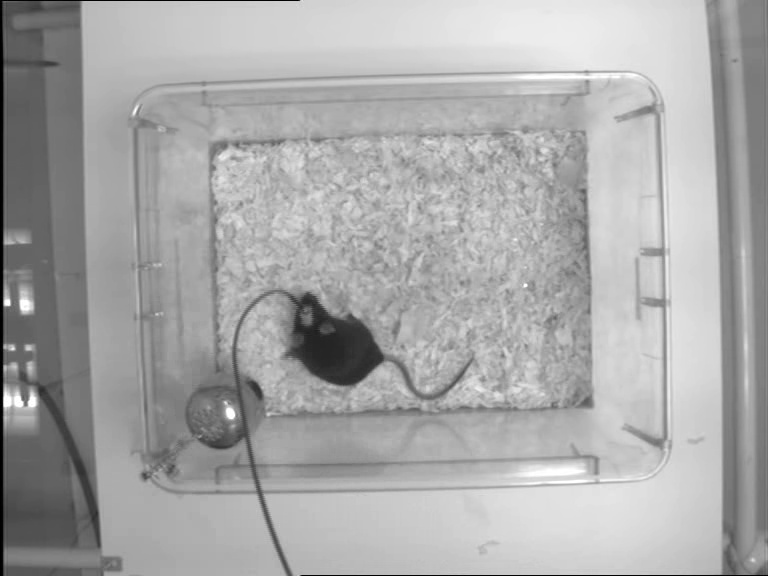mice: (289, 290, 473, 397)
